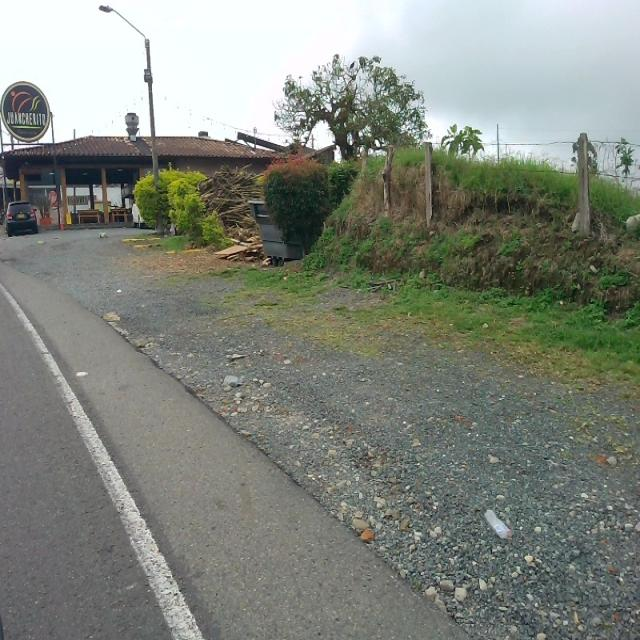DITCH: (1, 125, 639, 638), (2, 226, 638, 638)
